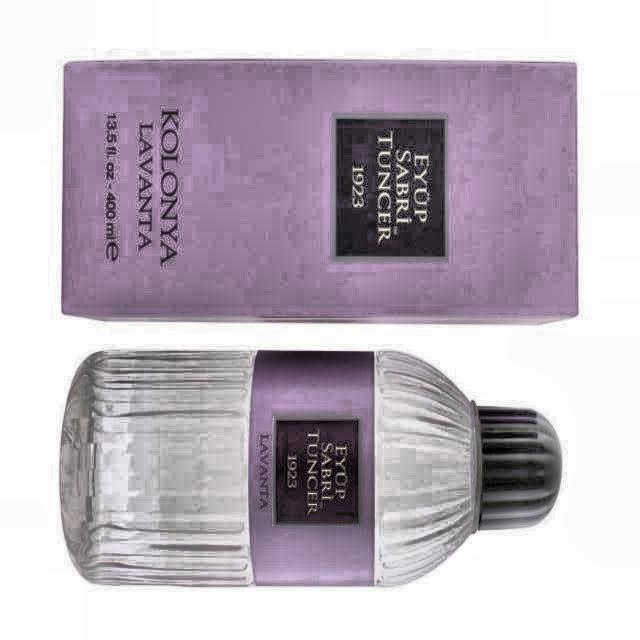cardboard: (61, 60, 578, 327)
plastic: (59, 351, 561, 584)
